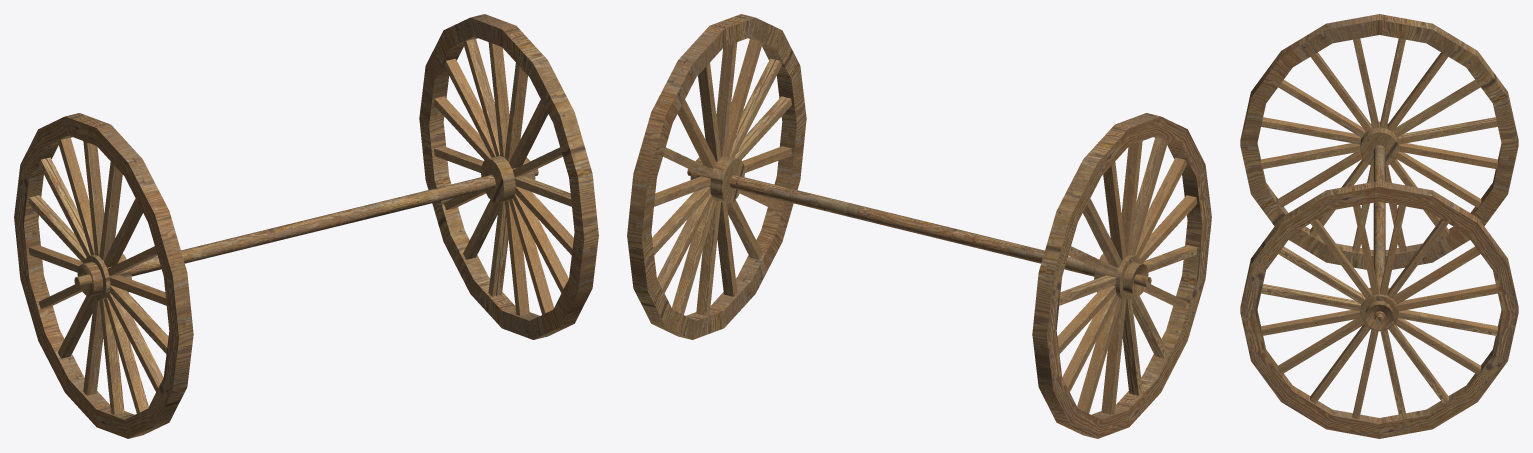
3 views of the same model, side by side, from view 1: azimuth 30°, elevation 25°; view 2: azimuth 150°, elevation 25°; view 3: azimuth 270°, elevation 25° (orthographic). The views are drawn at different scales.
Visible parts, largest first — view 1: 柱体.010_Baked; view 2: 柱体.010_Baked; view 3: 柱体.010_Baked.
Boxes of the visible parts, x1,y1,x2,y2 form: 柱体.010_Baked: (14, 14, 598, 438); 柱体.010_Baked: (627, 14, 1211, 438); 柱体.010_Baked: (1240, 14, 1518, 438).
Bounding box in the file's own units: 267 × 166 × 166.
